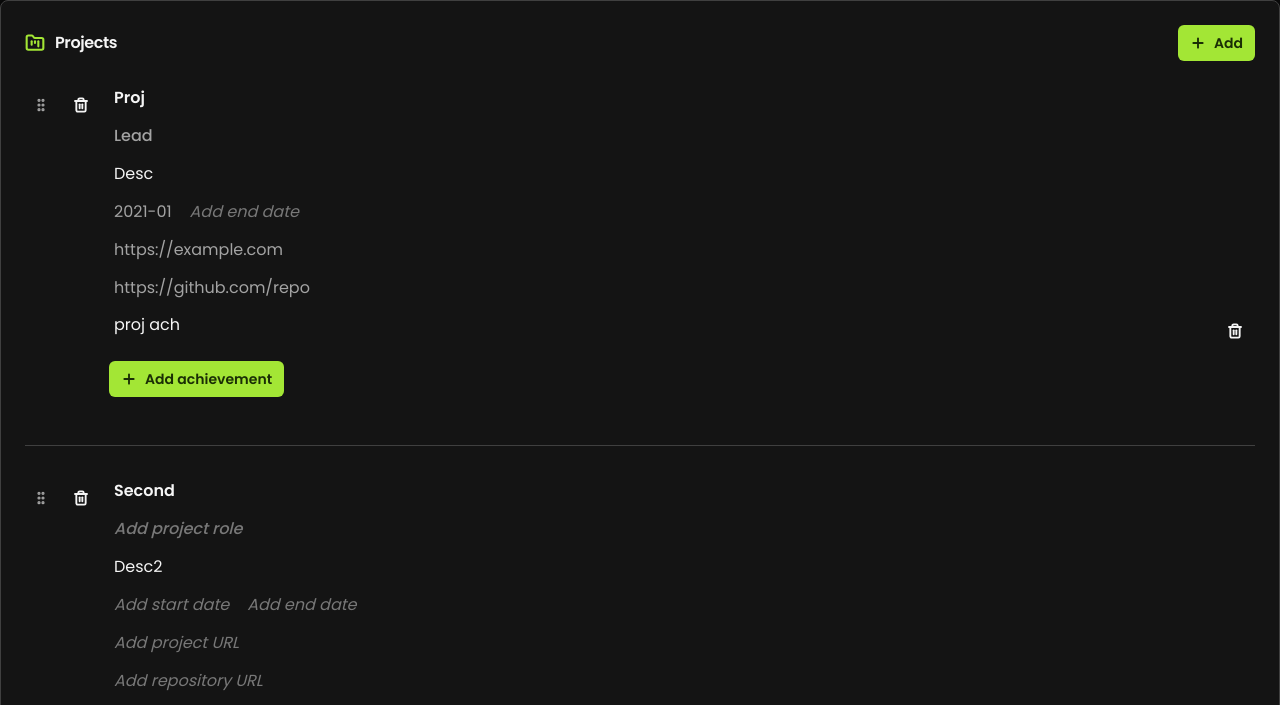
ProjectsSection – Wave 3A › inline edit regression – project name immutable
The width and height of the screenshot is (1280, 705).
Double-click the button with aria-label "Edit Project name" at (129, 98), box [114, 86, 145, 109]
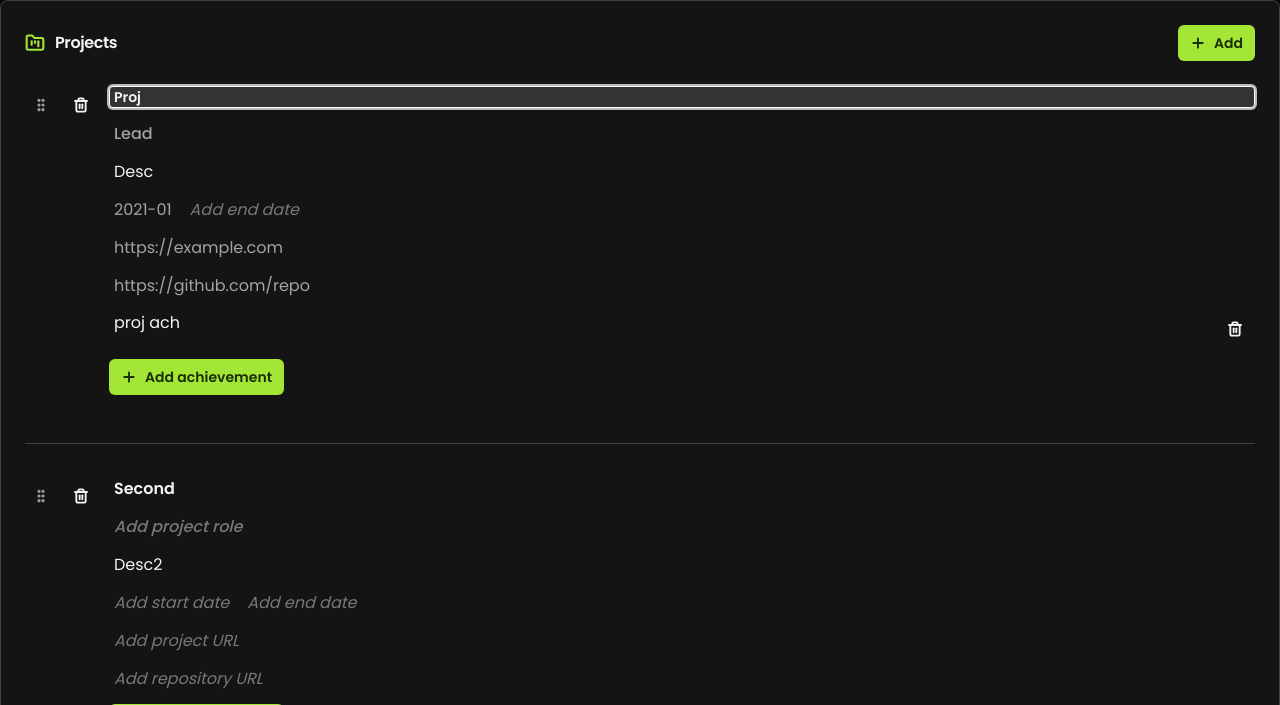
Replace the text in the field named "Project name" with "Updated" at (682, 97), box [109, 86, 1255, 108]
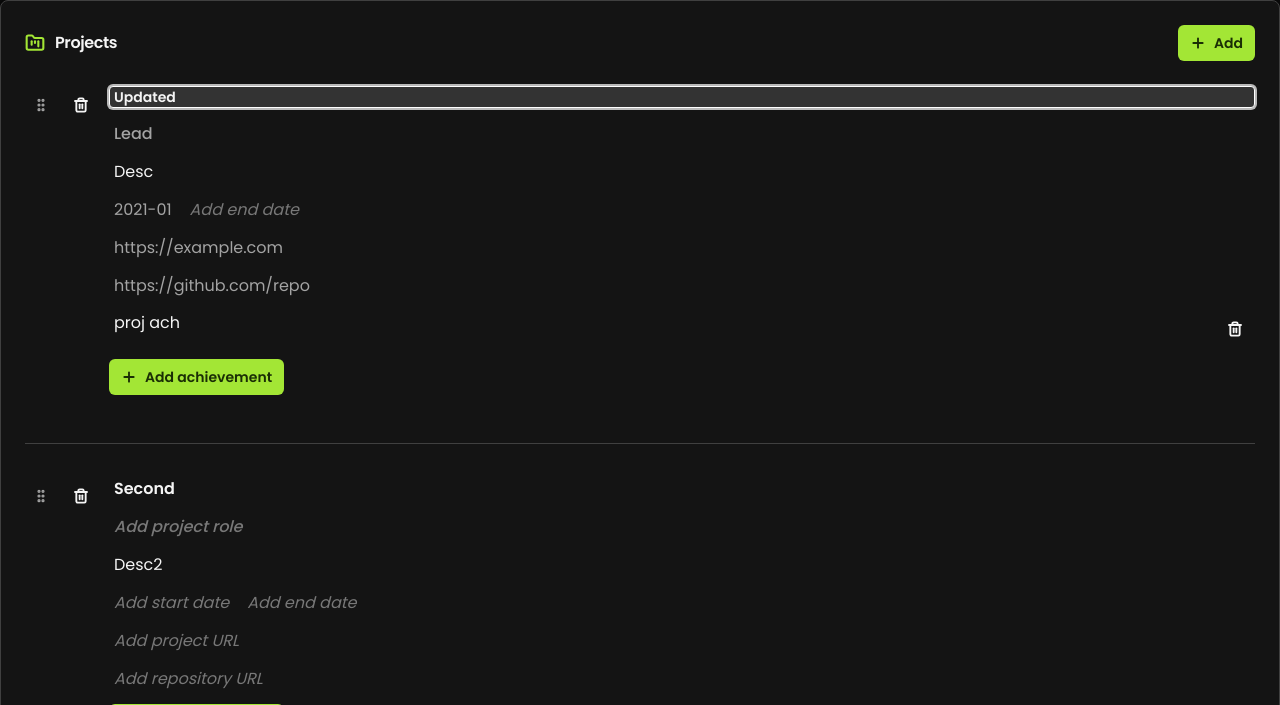
Press Enter
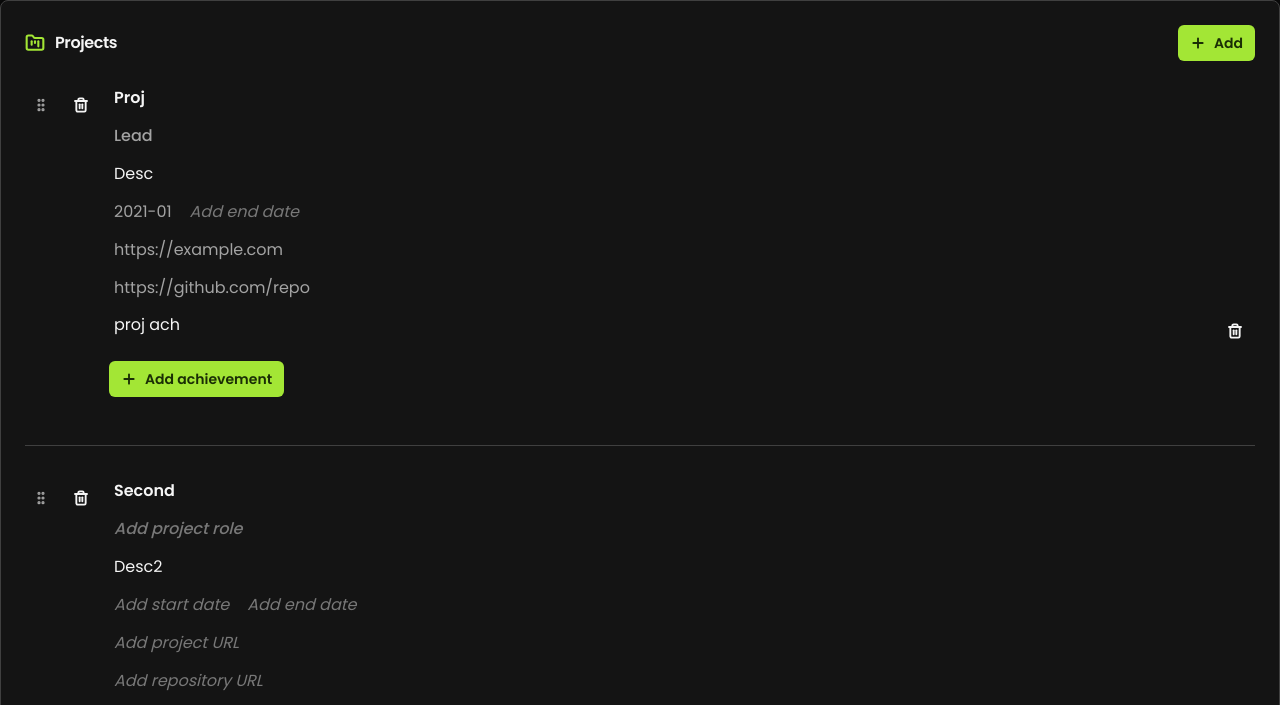
Expected: the button "Proj" is shown, [114, 86, 145, 109]
